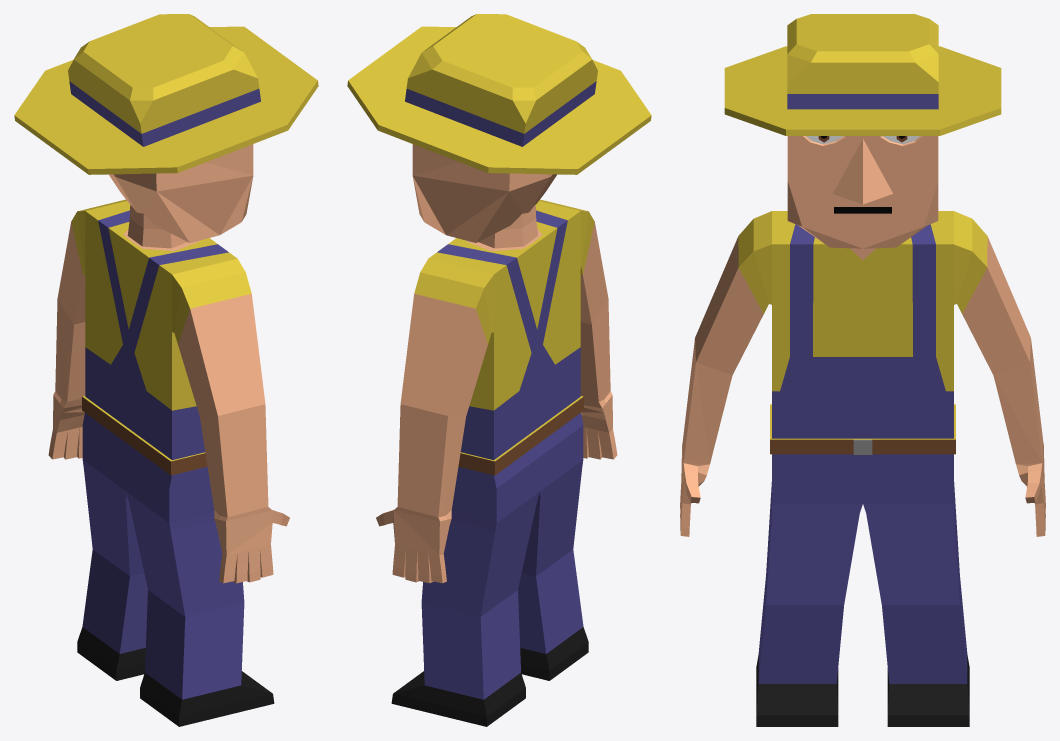
The model's file is 00_farmer.glb.
The picture shows the model from 3 angles, left to right: view 1: azimuth 30°, elevation 25°; view 2: azimuth 150°, elevation 25°; view 3: azimuth 270°, elevation 25°; orthographic projection. The views are drawn at different scales.
Parts seen in each view (by area): view 1: Cube.001, Cube.002, Cube, Cylinder.002; view 2: Cube.001, Cube.002, Cube, Cylinder.002; view 3: Cube.001, Cube.002, Cube.
Part boxes in pixels (x1,y1,x2,y2): Cube.001: [48, 199, 289, 726]; Cube.002: [14, 14, 318, 174]; Cube: [108, 144, 253, 242]; Cylinder.002: [127, 204, 187, 248]; Cube.001: [376, 199, 617, 726]; Cube.002: [347, 14, 651, 174]; Cube: [412, 144, 557, 242]; Cylinder.002: [478, 204, 538, 248]; Cube.001: [680, 211, 1045, 726]; Cube.002: [724, 14, 1001, 135]; Cube: [787, 136, 938, 248].
Bounding box in the file's own units: 1.81 × 4.78 × 2.37.
